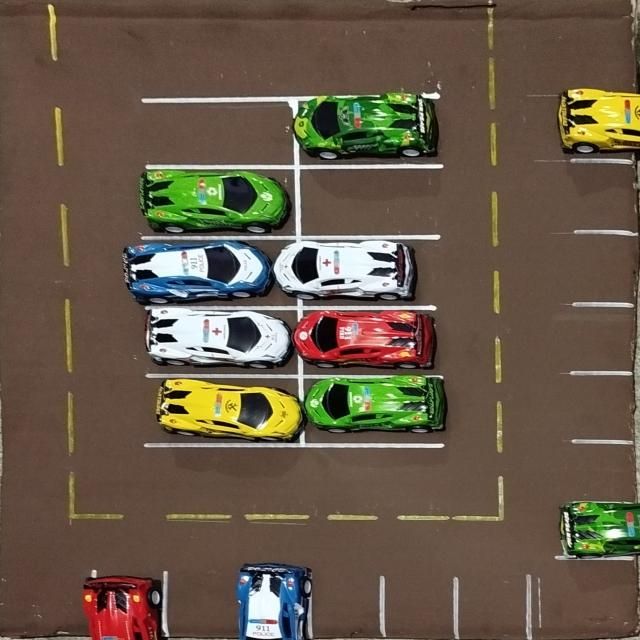libre: (140, 99, 296, 167), (295, 166, 442, 234), (0, 568, 90, 640), (383, 567, 455, 640), (310, 570, 384, 640), (576, 224, 640, 304), (457, 569, 528, 640), (165, 571, 236, 640), (575, 160, 640, 233), (576, 304, 640, 372), (576, 372, 640, 439), (576, 440, 640, 502)
no_estacionarse: (528, 561, 640, 640)
ocupado: (147, 376, 305, 447), (140, 166, 296, 237), (140, 238, 298, 308), (147, 308, 300, 376), (295, 95, 443, 165), (298, 237, 437, 307), (304, 376, 443, 445), (301, 306, 434, 376), (561, 88, 640, 158), (238, 562, 306, 640), (90, 569, 163, 640), (556, 502, 640, 558)
